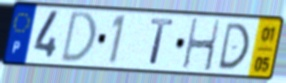1: (108, 13, 127, 67)
4: (32, 8, 61, 64)
D: (58, 10, 99, 65), (216, 21, 252, 71)
H: (181, 17, 222, 73)
T: (148, 17, 176, 68)
